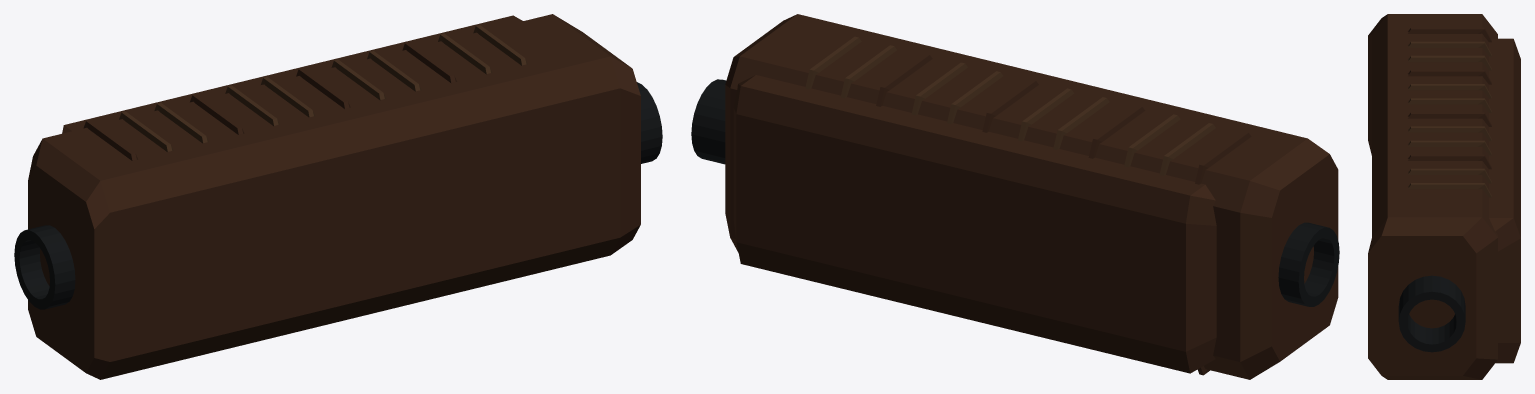
The model's file is shotmaker_pump_1995_lod0.obj.
The picture shows the model from 3 angles, left to right: view 1: azimuth 30°, elevation 25°; view 2: azimuth 150°, elevation 25°; view 3: azimuth 270°, elevation 25°; orthographic projection. The views are drawn at different scales.
Visible parts, largest first — view 1: pump_grip_core, pump_mount, pump_lower, deep_finger_groove_9, deep_finger_groove_1, deep_finger_groove_6, deep_finger_groove_7, deep_finger_groove_10, deep_finger_groove_2, deep_finger_groove_0, deep_finger_groove_3, deep_finger_groove_5 (+3 smaller); view 2: pump_lower, pump_grip_core, pump_mount, deep_finger_groove_0, deep_finger_groove_2, deep_finger_groove_6, deep_finger_groove_8, deep_finger_groove_1, deep_finger_groove_3, deep_finger_groove_4, deep_finger_groove_5, deep_finger_groove_7 (+3 smaller); view 3: pump_grip_core, pump_lower, pump_mount, deep_finger_groove_2, deep_finger_groove_1, deep_finger_groove_8, deep_finger_groove_9, deep_finger_groove_10, deep_finger_groove_0, deep_finger_groove_3, deep_finger_groove_4, deep_finger_groove_5 (+3 smaller).
Boxes of the visible parts, x1,y1,x2,y2 form: pump_grip_core: (28,14,640,379); pump_mount: (14,82,662,309); pump_lower: (62,15,522,133); deep_finger_groove_9: (402,42,456,82); deep_finger_groove_1: (119,111,173,152); deep_finger_groove_6: (296,68,350,108); deep_finger_groove_7: (331,59,385,100); deep_finger_groove_10: (438,33,492,74); deep_finger_groove_2: (154,103,208,143); deep_finger_groove_0: (83,120,137,160); deep_finger_groove_3: (190,94,244,134); deep_finger_groove_5: (261,77,314,117); pump_lower: (733,75,1216,373); pump_grip_core: (725,14,1338,379); pump_mount: (691,79,1339,306); deep_finger_groove_0: (1195,131,1251,375); deep_finger_groove_2: (1124,114,1180,167); deep_finger_groove_6: (982,80,1038,132); deep_finger_groove_8: (911,62,967,115); deep_finger_groove_1: (1159,123,1215,175); deep_finger_groove_3: (1088,105,1145,158); deep_finger_groove_4: (1053,97,1109,149); deep_finger_groove_5: (1018,88,1074,141); deep_finger_groove_7: (947,71,1003,123); pump_grip_core: (1368,14,1497,379); pump_lower: (1489,38,1520,363); pump_mount: (1398,275,1465,352); deep_finger_groove_2: (1408,55,1491,70); deep_finger_groove_1: (1408,41,1491,56); deep_finger_groove_8: (1408,140,1491,155); deep_finger_groove_9: (1408,154,1491,169); deep_finger_groove_10: (1408,168,1491,183); deep_finger_groove_0: (1408,27,1491,42); deep_finger_groove_3: (1408,70,1491,84); deep_finger_groove_4: (1408,84,1491,98); deep_finger_groove_5: (1408,98,1491,112).
Size of the model in its own units: 30 by 9.9 by 8.01.
